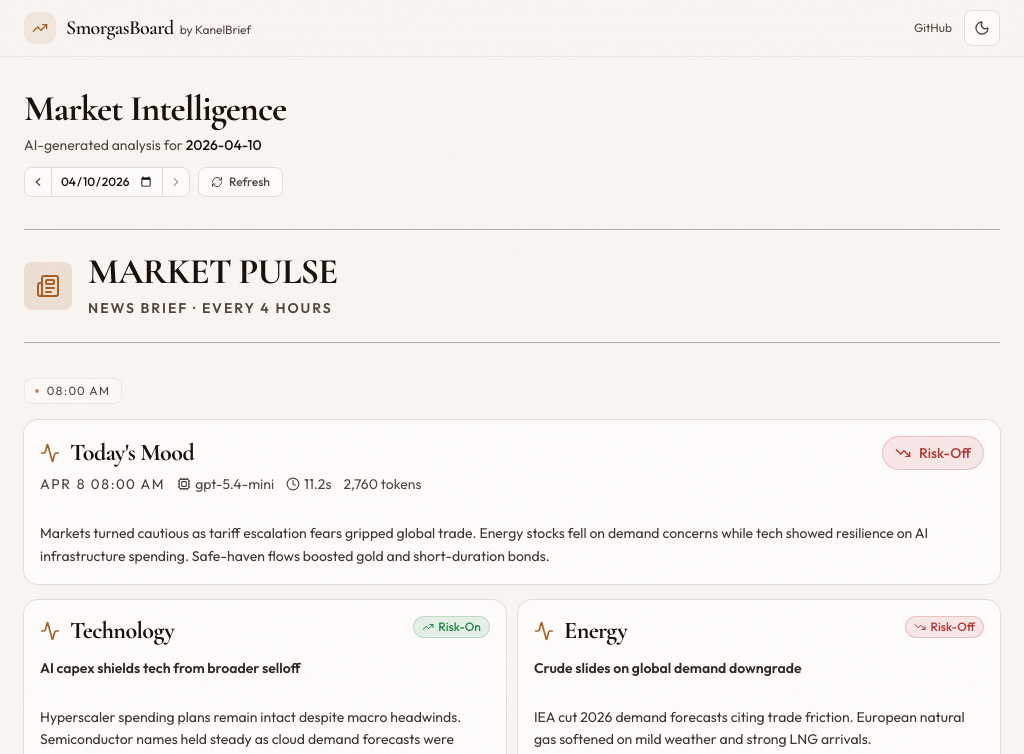
DashboardPage date picker › navigates to previous day when left arrow is clicked
Click the button named "Previous day": {"x": 38, "y": 182} [25,169,51,195]
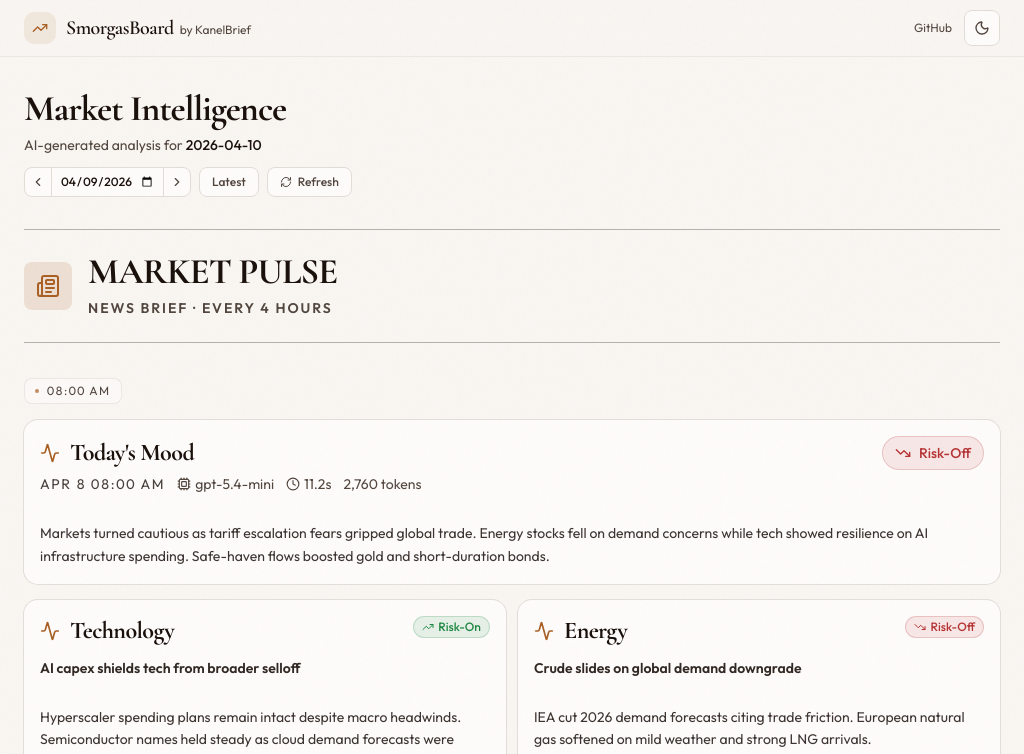
Result: the date field showing "2026-04-09" is shown at [51,168,164,196]
